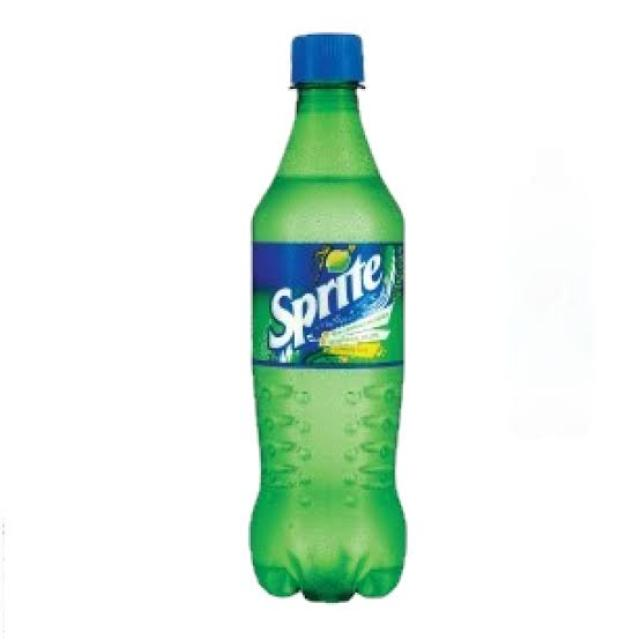plastic bottle: (222, 28, 421, 609)
